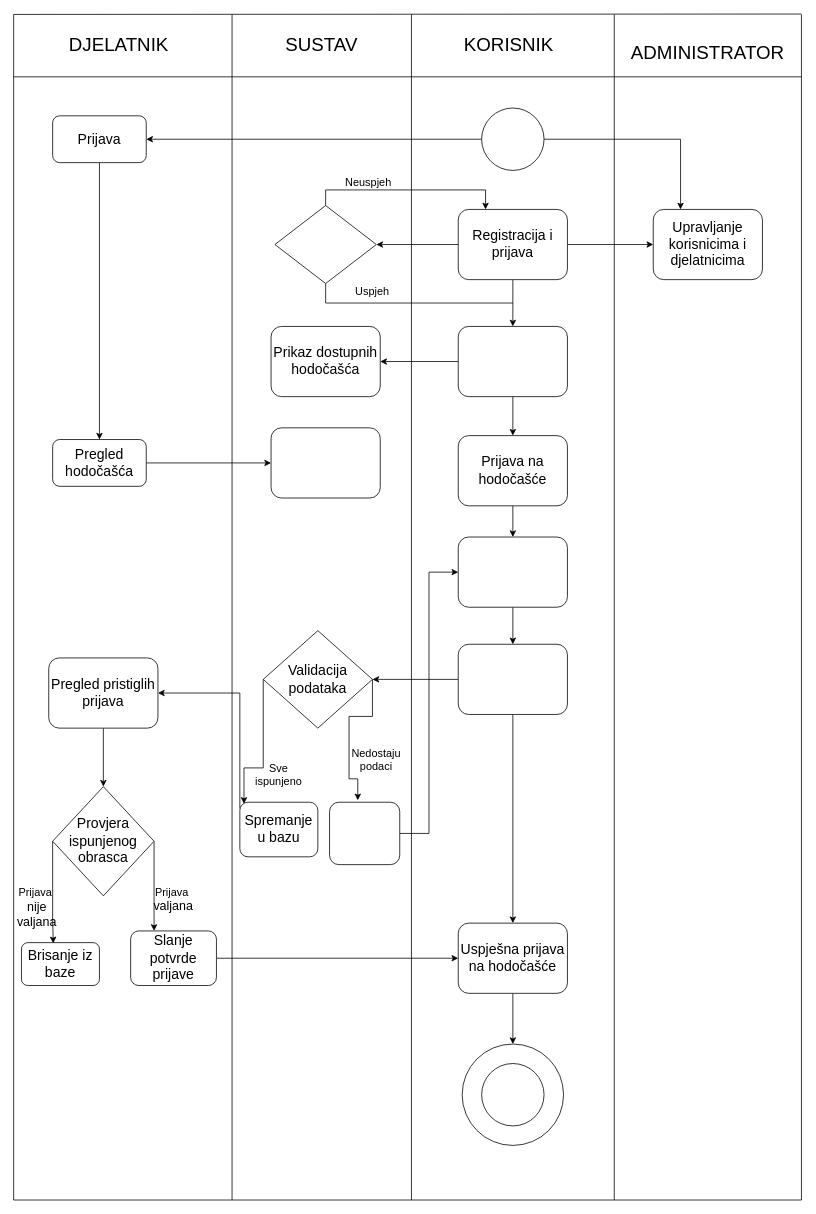
This 816x1214 diagram has some shape labels left out. Here are the shapes that lost their labels. From the top down, the box of each, then its label:
(274, 205, 376, 284): Provjera
(457, 326, 567, 397): Pregled dostupnih hodočašća
(270, 427, 380, 498): Prikaz hodočašća
(457, 536, 567, 607): Ispunjavanje obrasca
(457, 644, 567, 714): Slanje obrasca
(329, 801, 400, 865): Zahtej za dopunu
